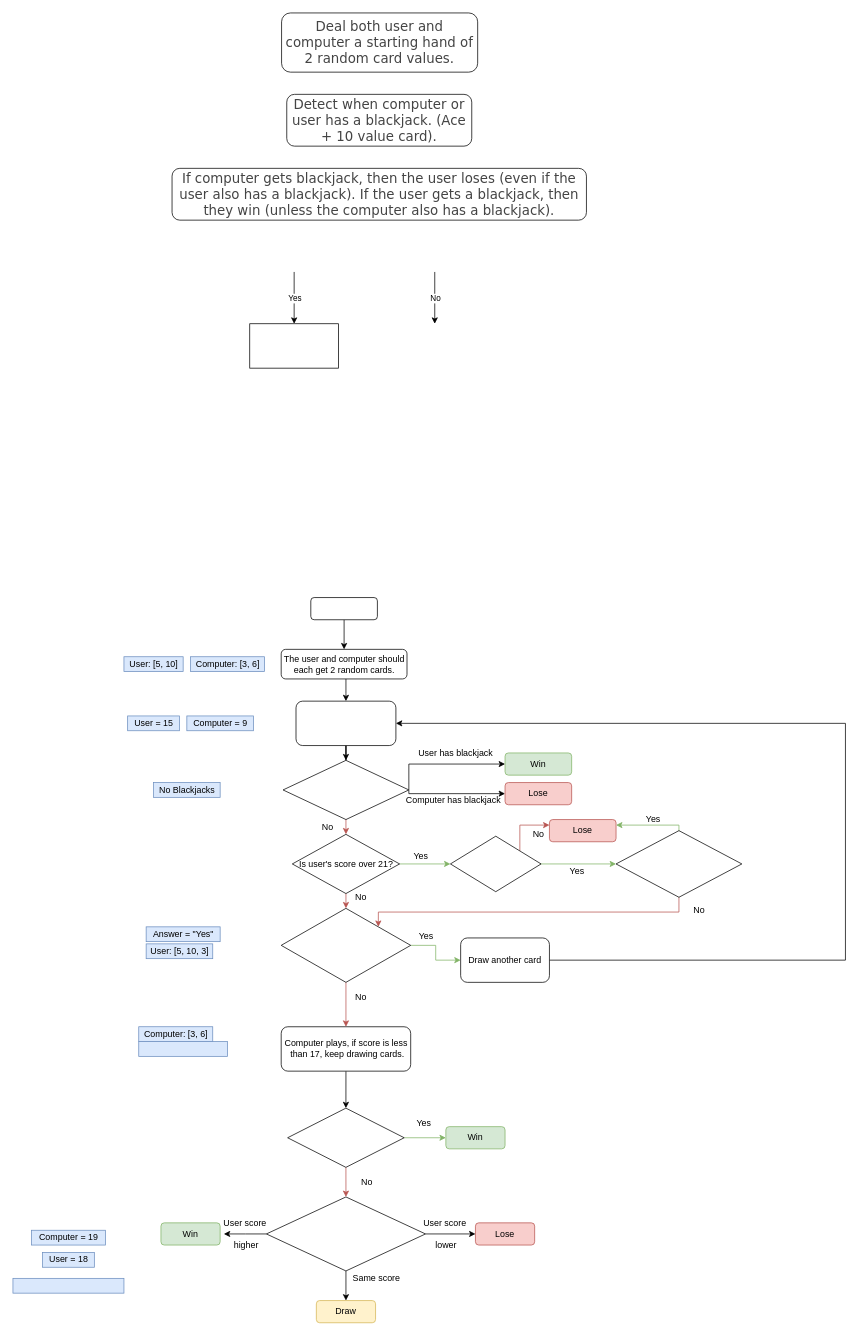
Image size: 864x1336. Some labels were removed from this diagram. The centre of each missing label's shape, as x and y in pixels:
Add up the user's and the computer's scores: (x=345, y=723)
Ask the user if they want to get another card.: (x=345, y=945)
Compare user score with computer score to see if user score is higher?: (x=346, y=1233)
Computer: [3, 6, 10]: (x=183, y=1048)
Do they have an "Ace"?: (x=495, y=863)
Does the user or computer have a blackjack? (ace + 10): (x=345, y=790)
Has computer gone over 21?: (x=345, y=1137)
If the ace counts as a 1 instead of 11, are they still over 21?: (x=678, y=863)
Outcome: Computer wins.: (x=68, y=1285)
START: (x=343, y=608)
User Loses: (x=294, y=345)
